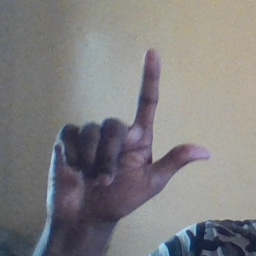L: (41, 47, 209, 230)
